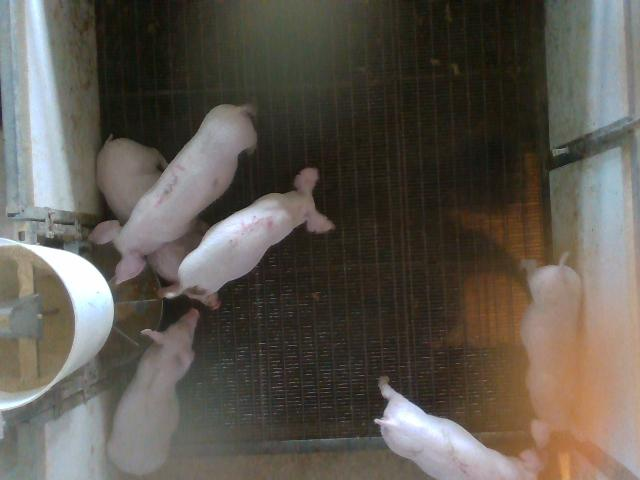pig-3: (89, 104, 258, 283)
pig-5: (161, 168, 334, 307)
